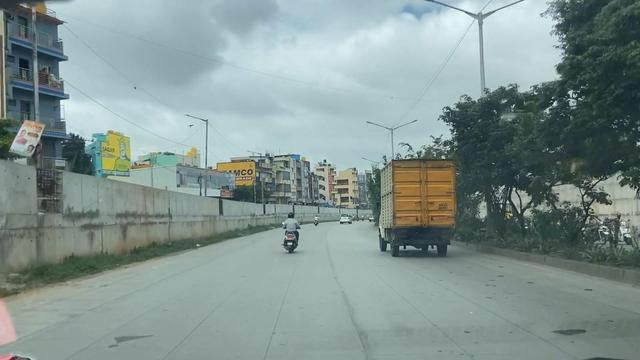HMV: (373, 157, 463, 268)
